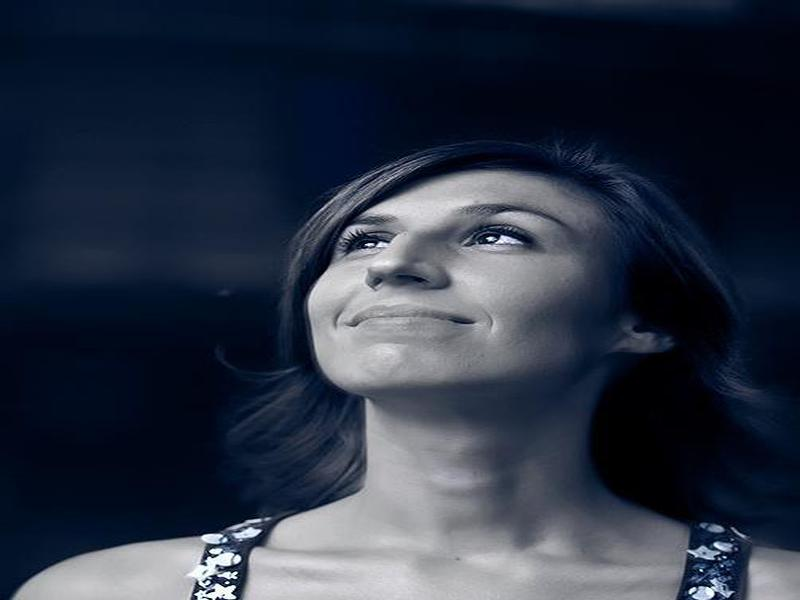person: (16, 137, 797, 600)
